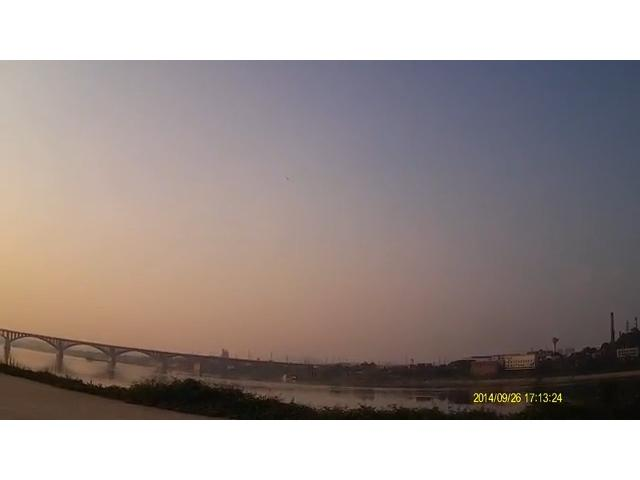Anti-Drone: (279, 169, 303, 187)
